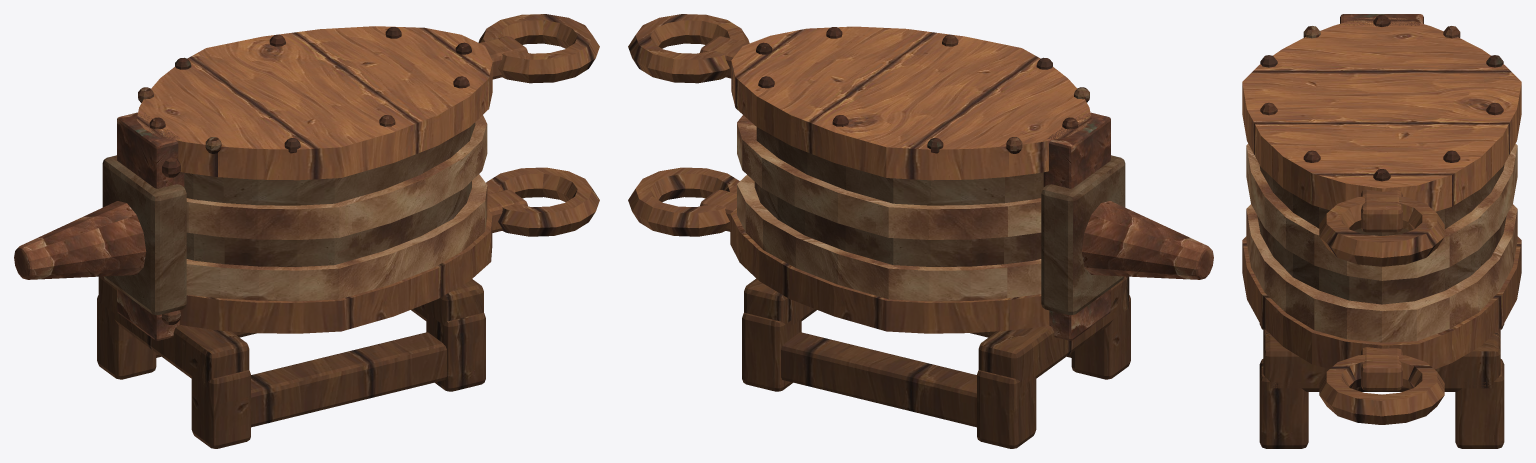
The model's file is bellows.glb.
3 views of the same model, side by side, from view 1: azimuth 30°, elevation 25°; view 2: azimuth 150°, elevation 25°; view 3: azimuth 270°, elevation 25° (orthographic). The views are drawn at different scales.
Parts seen in each view (by area): view 1: model; view 2: model; view 3: model.
Boxes of the visible parts, box(x1,y1,x2,y2) form: model: box(14, 14, 599, 448); model: box(628, 14, 1213, 448); model: box(1242, 14, 1521, 448).
Bounding box in the file's own units: 0.972 × 0.473 × 0.4.
7 materials, 7 textured.
